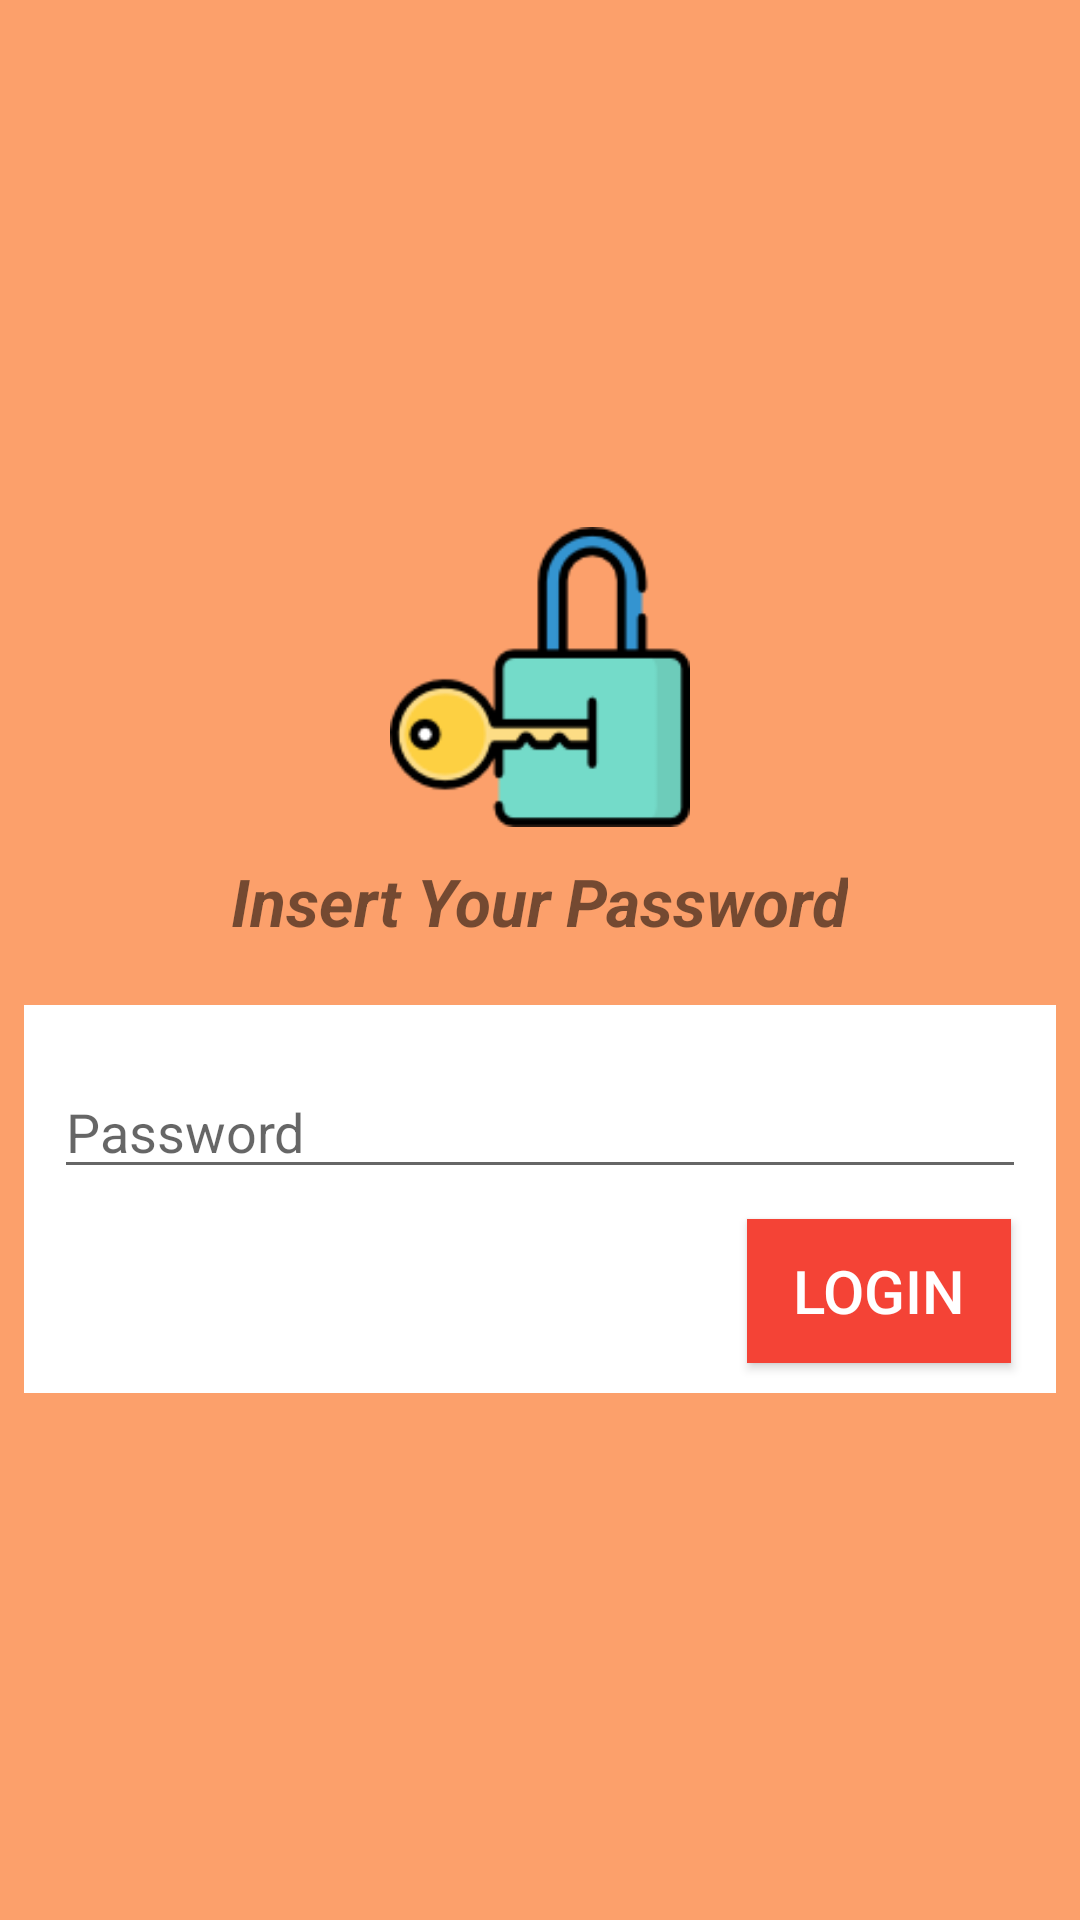

Locate icon controls on the screen. Image size 1080 x 1920, boxes as (x1, y1, x2, y2).
key: (390, 527, 690, 827)
